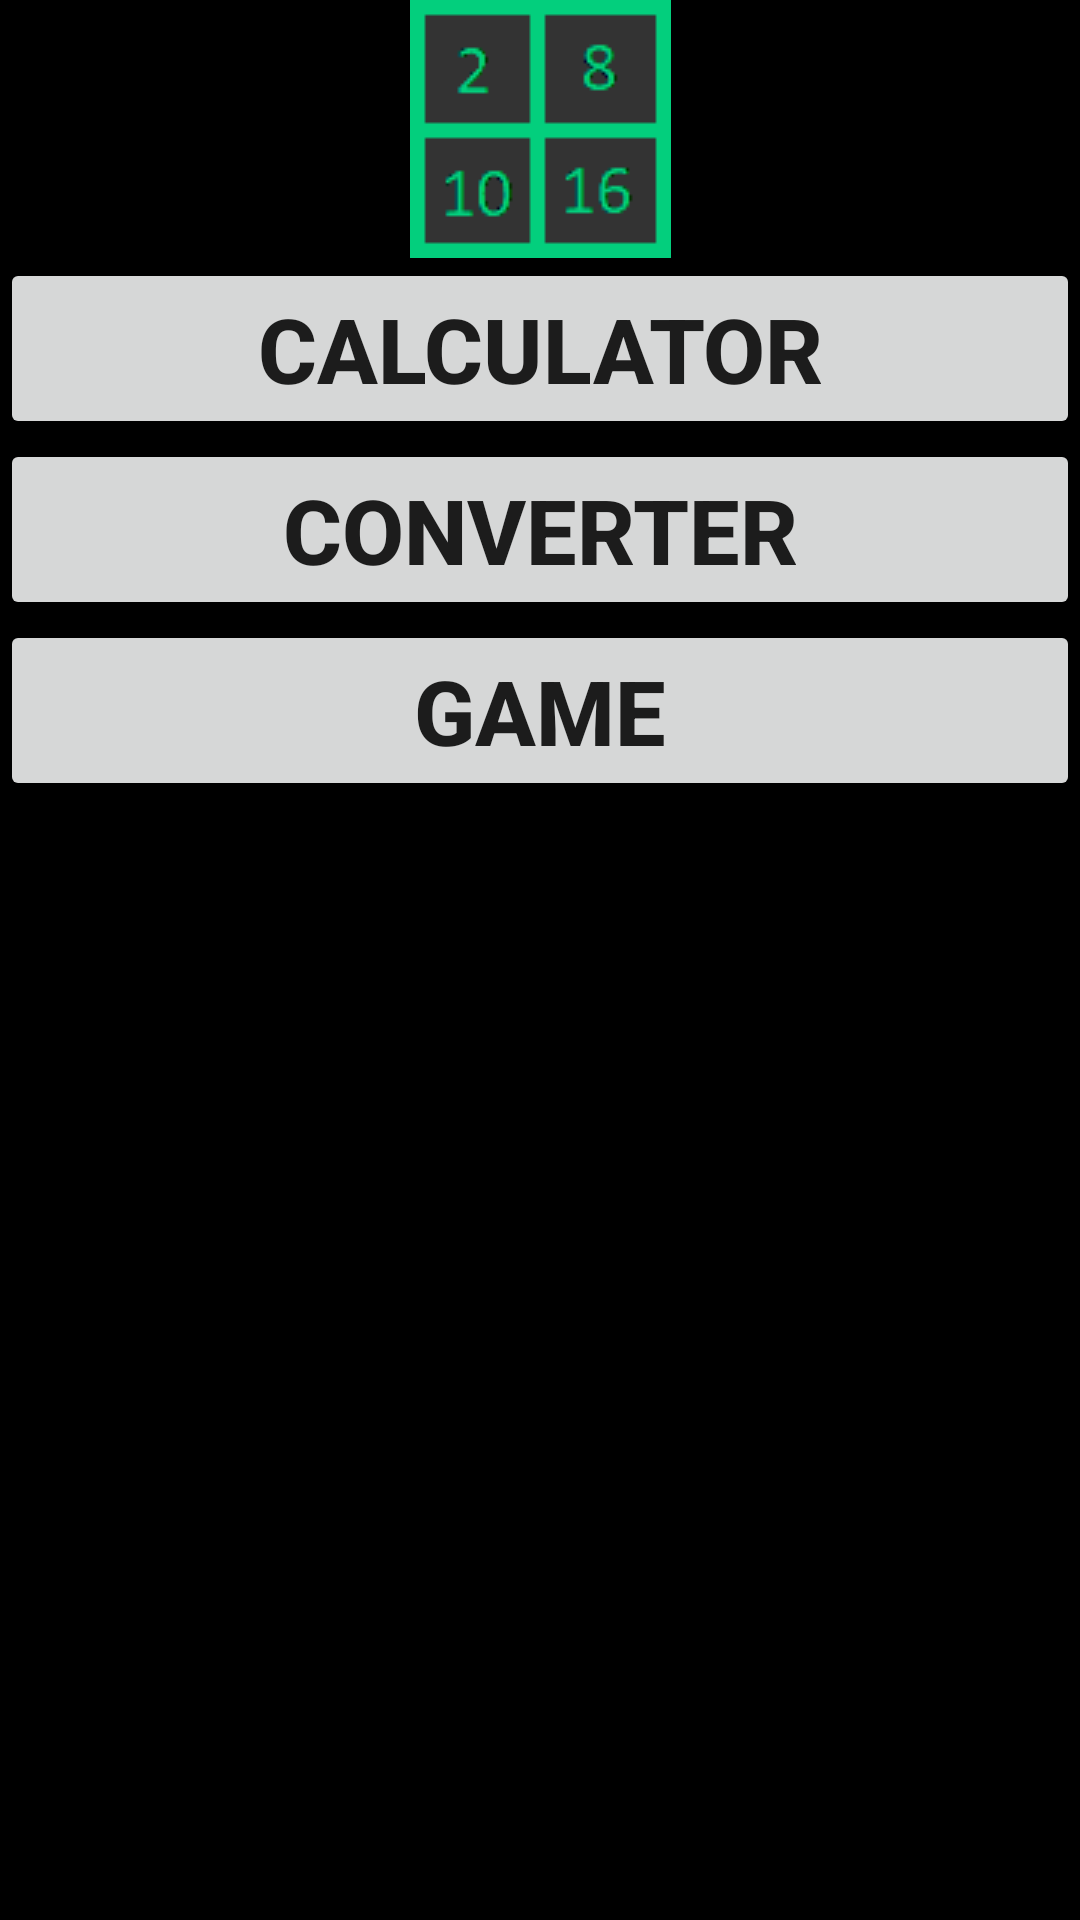

Where icons sit on this 1080 × 1920 app screen, as (x1, y1, x2, y2):
base: (410, 0, 671, 258)
